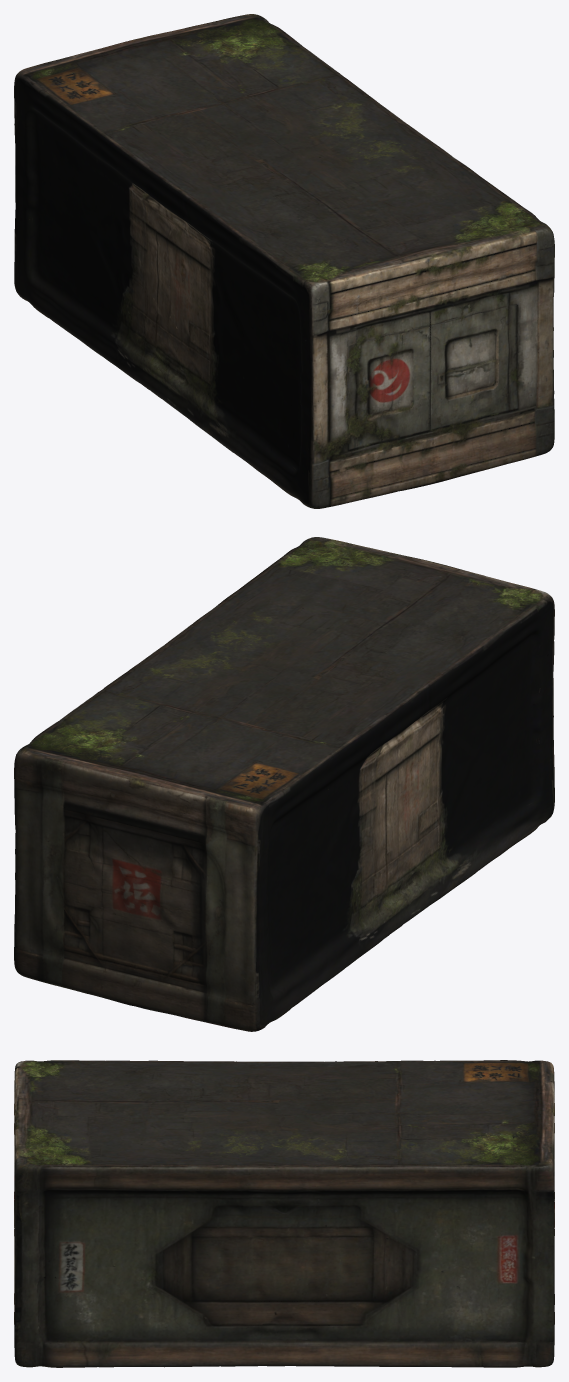
Rendered from Box_Crate_A_dark_at_0423145954_refine.fbx.
3 renders of one model, top to bottom at view 1: azimuth 30°, elevation 25°; view 2: azimuth 150°, elevation 25°; view 3: azimuth 270°, elevation 25°, orthographic. The views are drawn at different scales.
Parts seen in each view (by area): view 1: Mesh1; view 2: Mesh1; view 3: Mesh1.
Boxes of the visible parts, x1,y1,x2,y2 form: Mesh1: (14,14,554,508); Mesh1: (14,537,554,1031); Mesh1: (14,1060,554,1367).
Bounding box in the file's own units: 93.81 × 83.91 × 198.
1 material, 1 textured.
